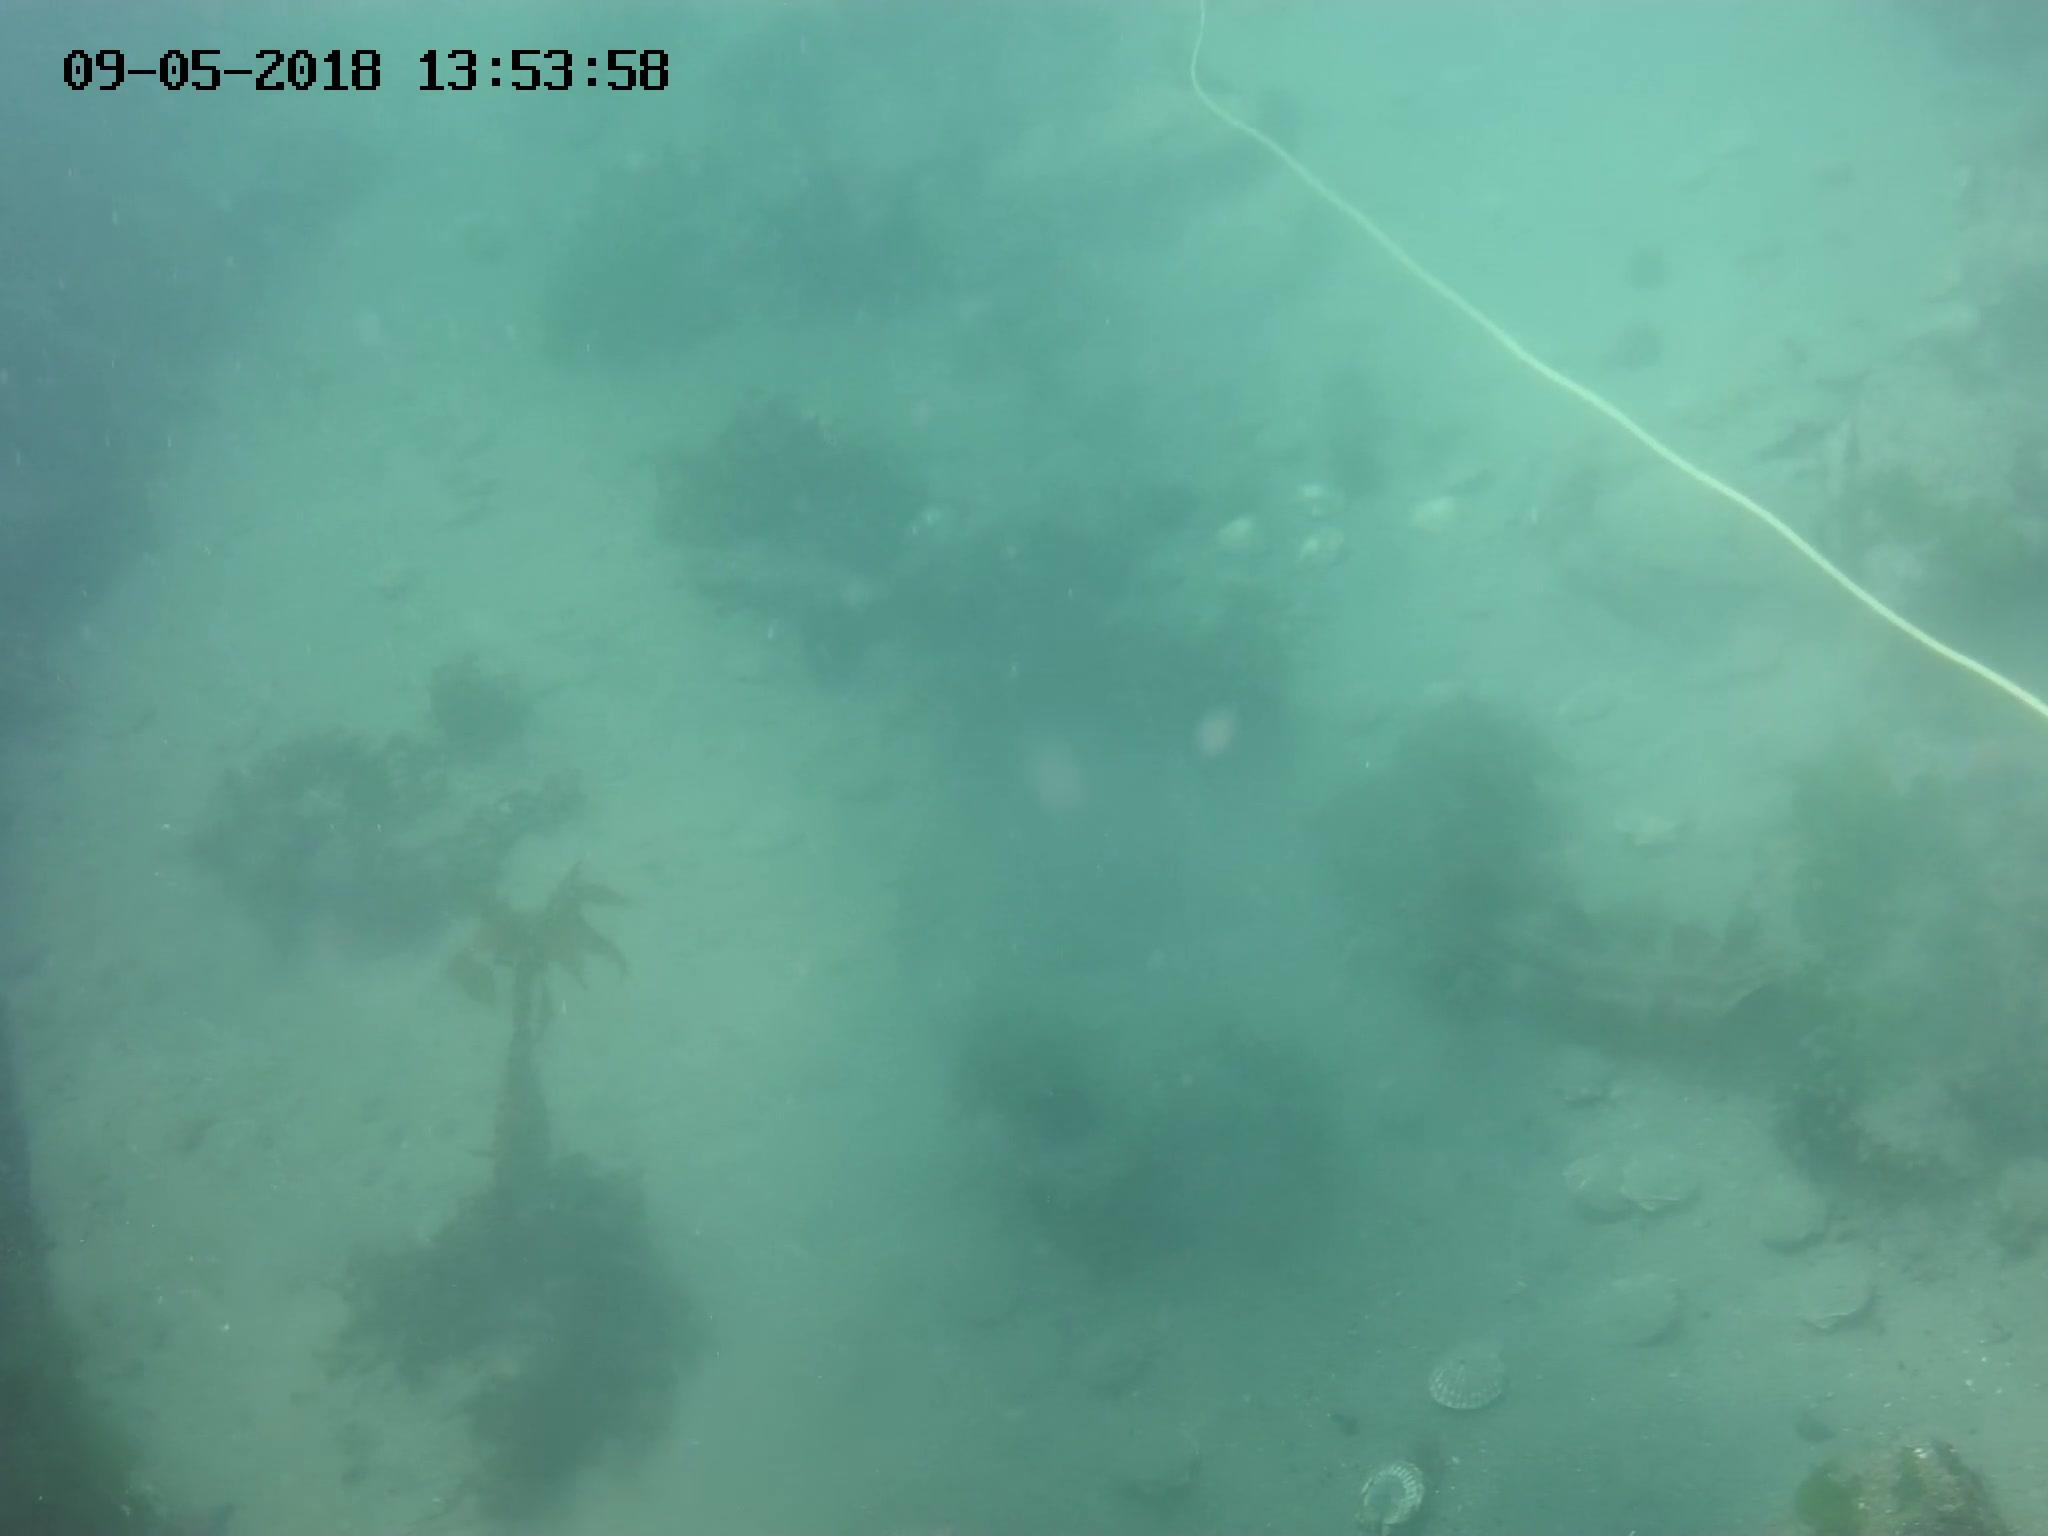scallop: (1587, 1275, 1687, 1354), (1108, 1430, 1209, 1504), (1351, 1454, 1434, 1536), (1787, 1265, 1874, 1339), (1538, 1039, 1622, 1115), (1600, 792, 1692, 857), (1429, 1344, 1511, 1415), (1072, 1328, 1161, 1392), (1751, 1187, 1837, 1254), (1559, 1146, 1634, 1221), (989, 1329, 1068, 1400), (1617, 1155, 1696, 1220), (963, 1275, 1026, 1341), (1209, 511, 1269, 558), (1292, 529, 1351, 574), (1297, 479, 1353, 520), (1413, 497, 1459, 541)
